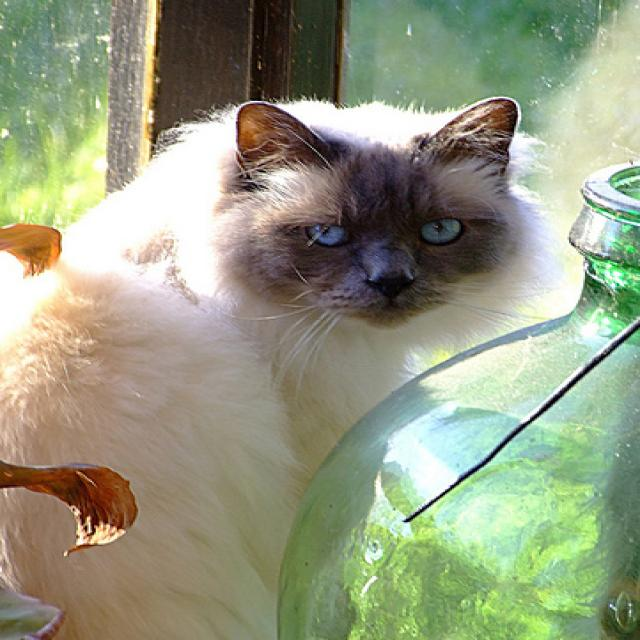Birman: (0, 89, 572, 640)
